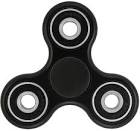fidget_spinner: (3, 1, 139, 128)
